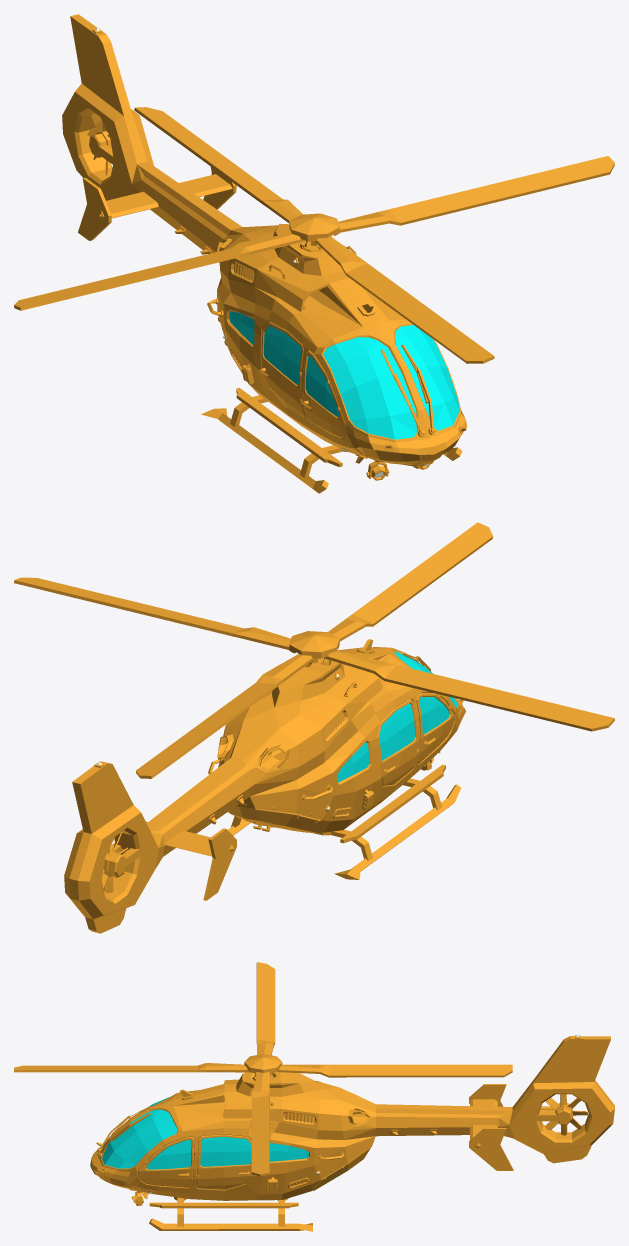
File: SM_Helicopter_Travel_City.fbx
The picture shows the model from 3 angles, top to bottom: view 1: azimuth 30°, elevation 25°; view 2: azimuth 150°, elevation 25°; view 3: azimuth 270°, elevation 25°; orthographic projection. The views are drawn at different scales.
Visible parts, largest first — view 1: SM_Helicopter_Travel_City_Base, SM_Helicopter_Travel_City_Rotor_A, SM_Helicopter_Travel_City_Door_RB, SM_Helicopter_Travel_City_Door_RF; view 2: SM_Helicopter_Travel_City_Base, SM_Helicopter_Travel_City_Rotor_A, SM_Helicopter_Travel_City_Door_RB, SM_Helicopter_Travel_City_Door_RF; view 3: SM_Helicopter_Travel_City_Base, SM_Helicopter_Travel_City_Rotor_A, SM_Helicopter_Travel_City_Door_LB, SM_Helicopter_Travel_City_Door_LF, SM_Helicopter_Travel_City_Rotor_B.
Part boxes in pixels (x1,y1,x2,y2): SM_Helicopter_Travel_City_Base: (62, 14, 467, 493); SM_Helicopter_Travel_City_Rotor_A: (14, 107, 614, 363); SM_Helicopter_Travel_City_Door_RB: (259, 322, 305, 417); SM_Helicopter_Travel_City_Door_RF: (302, 350, 345, 438); SM_Helicopter_Travel_City_Base: (64, 639, 465, 933); SM_Helicopter_Travel_City_Rotor_A: (14, 522, 614, 778); SM_Helicopter_Travel_City_Door_RB: (377, 699, 418, 785); SM_Helicopter_Travel_City_Door_RF: (416, 692, 454, 763); SM_Helicopter_Travel_City_Base: (90, 1035, 614, 1231); SM_Helicopter_Travel_City_Rotor_A: (14, 962, 512, 1176); SM_Helicopter_Travel_City_Door_LB: (196, 1134, 251, 1189); SM_Helicopter_Travel_City_Door_LF: (138, 1137, 194, 1187); SM_Helicopter_Travel_City_Rotor_B: (539, 1094, 587, 1135).
Size of the model in its own units: 10.78 by 4.12 by 13.
